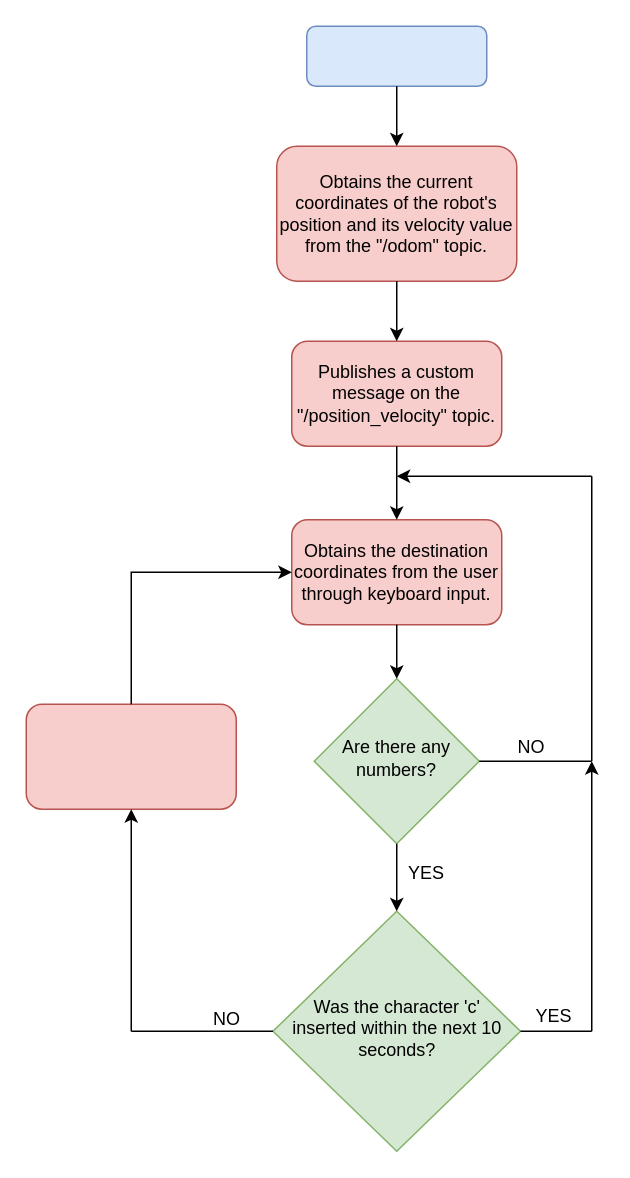
The diagram is 630 pixels wide and 1178 high, and some of its shapes have lost their labels. The centre of each missing label's shape, as x and y in pixels:
Initialisation: the point at 396,55
The next goal is sent to the server: the point at 130,756
